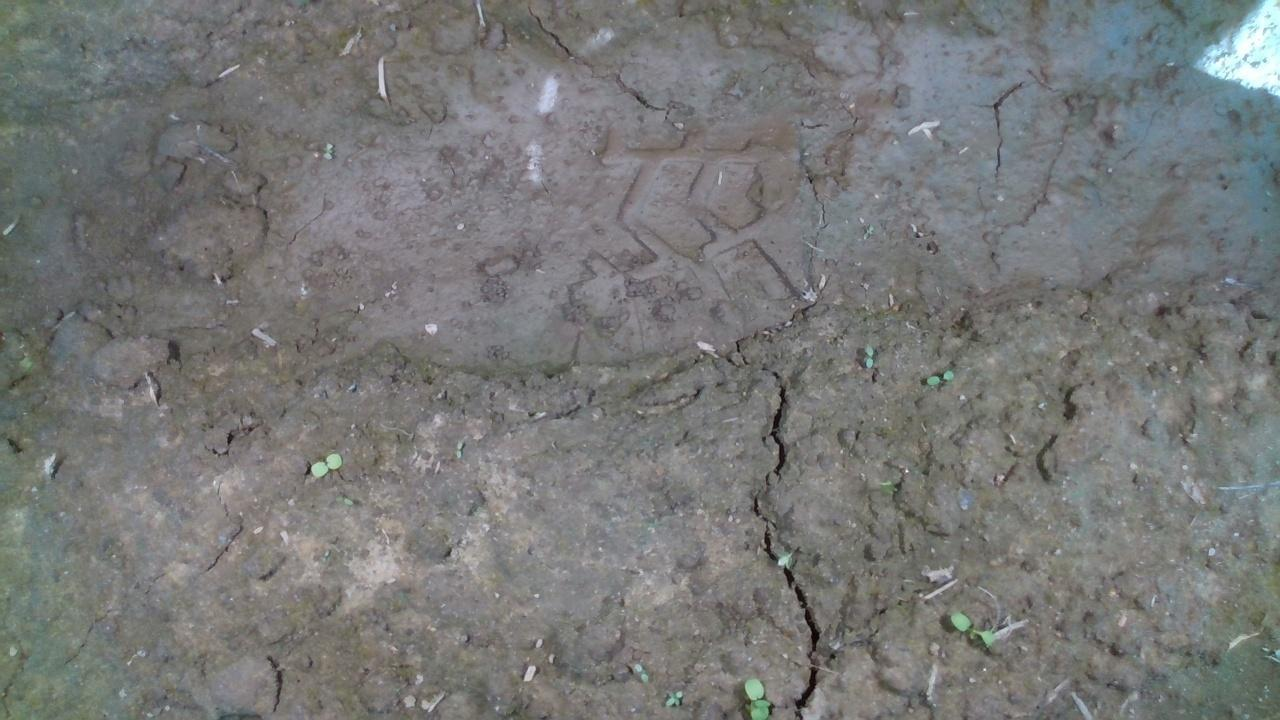weed: (919, 365, 961, 392), (307, 446, 343, 474), (854, 341, 882, 371), (781, 539, 800, 572)
